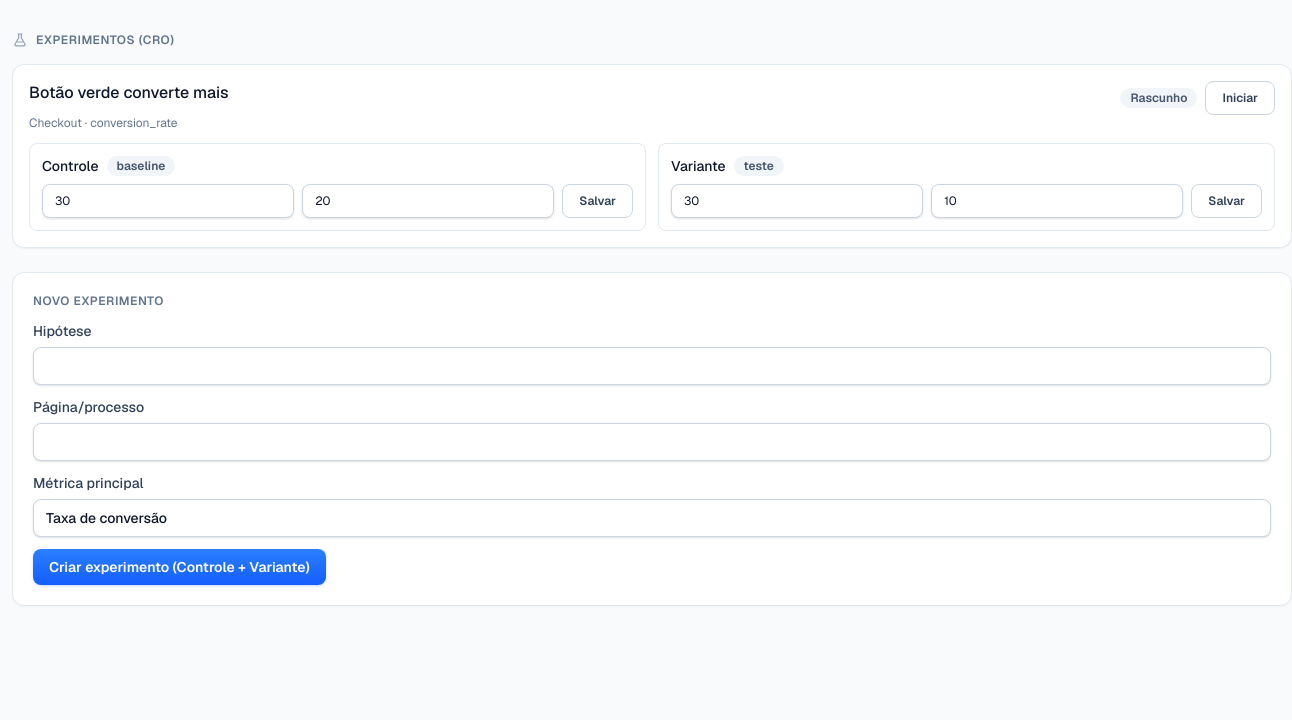
ExperimentsPage › experimento em rascunho mostra 'Iniciar' e avança para 'Em andamento'
The width and height of the screenshot is (1292, 720).
Check: the text "Botão verde converte mais" is shown, box [29,81,228,105]
Check: the text "Rascunho" is shown, box [1120,88,1197,108]
Click the button "Iniciar" at (1240, 98), box [1205,81,1275,115]
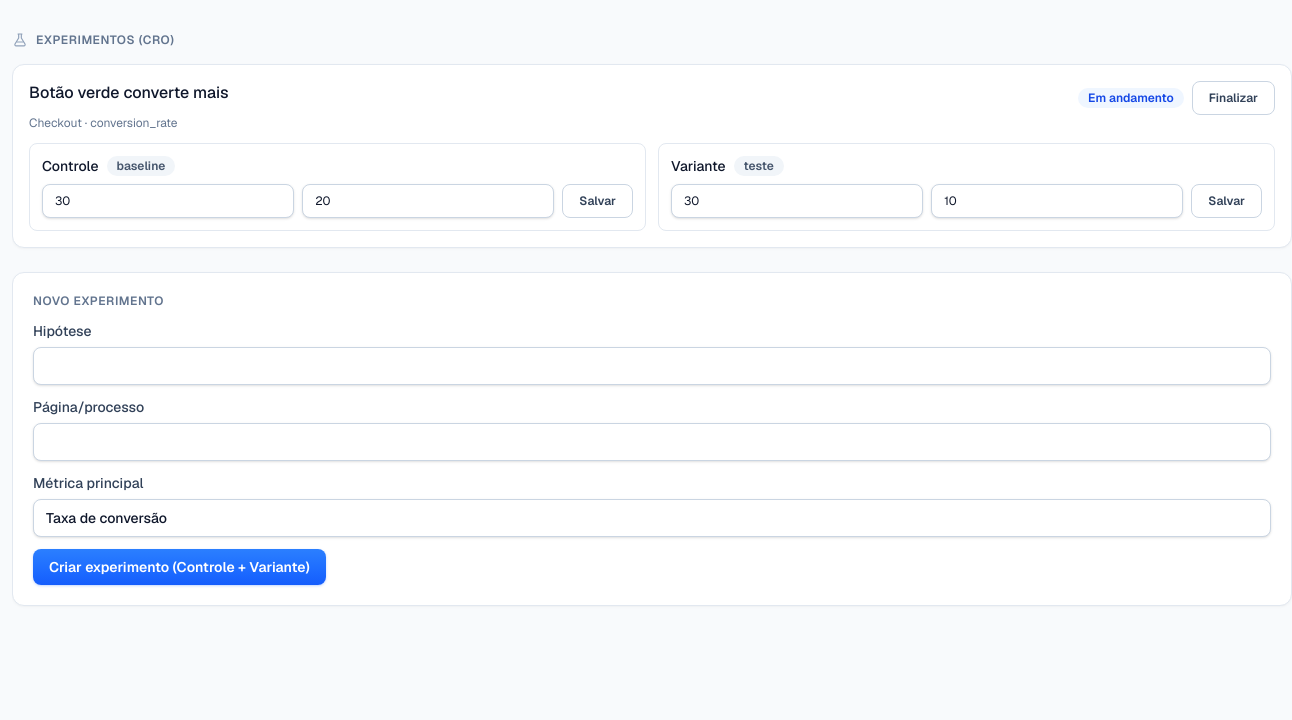
Check: the text "Em andamento" is shown, box [1078,88,1184,108]
Check: the button "Finalizar" is shown, box [1192,81,1275,115]
Check: the button "Iniciar" is gone
